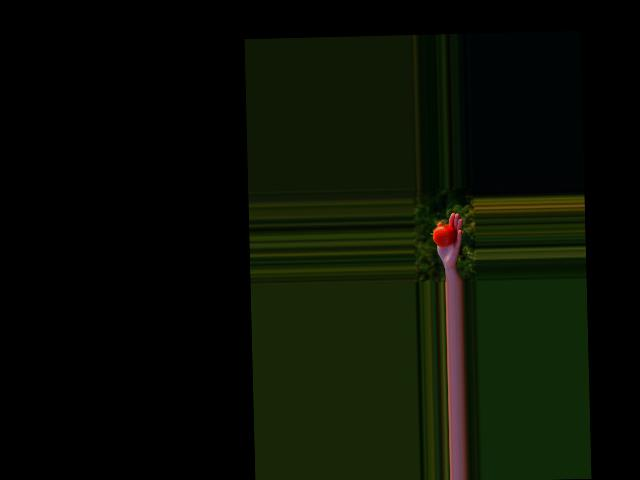tomato: (433, 224, 457, 246)
